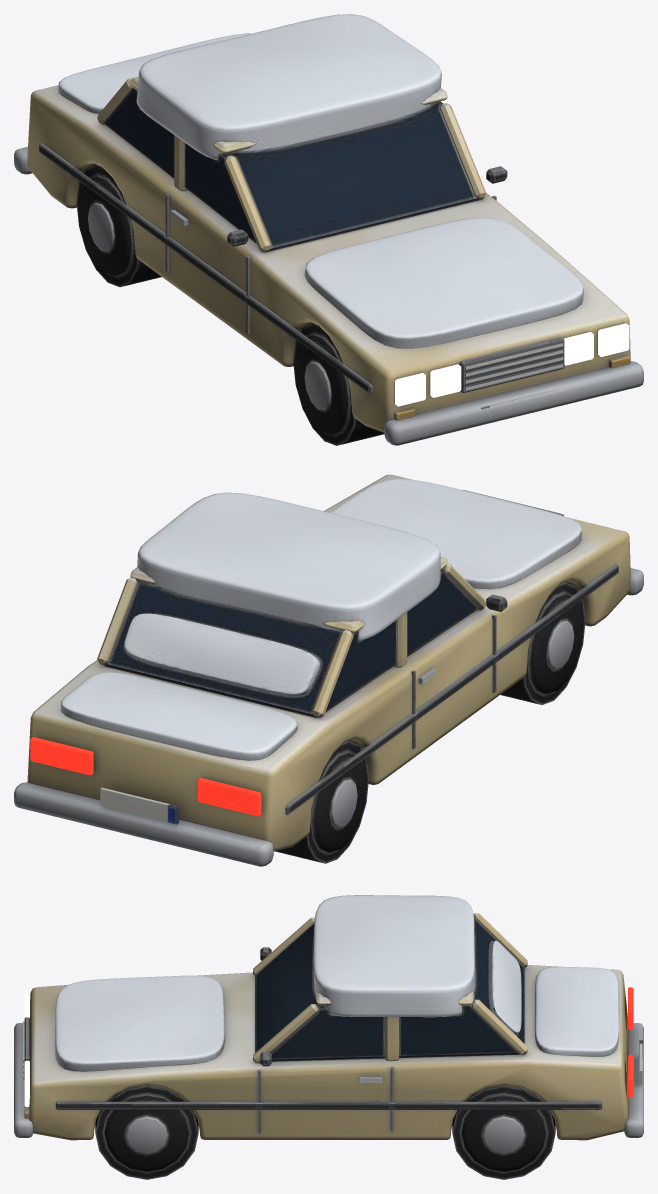
File: car_cream.glb
3 renders of one model, top to bottom at view 1: azimuth 30°, elevation 25°; view 2: azimuth 150°, elevation 25°; view 3: azimuth 270°, elevation 25°, orthographic. The views are drawn at different scales.
Parts seen in each view (by area): view 1: car_cream, car_cream_glow; view 2: car_cream, car_cream_glow; view 3: car_cream, car_cream_glow.
Part boxes in pixels (x1,y1,x2,y2): car_cream: (14,14,643,445); car_cream_glow: (395,323,629,406); car_cream: (14,474,643,866); car_cream_glow: (30,532,629,816); car_cream: (14,895,643,1179); car_cream_glow: (24,987,633,1106).
Size of the model in its own units: 1.88 by 1.56 by 4.5.
Materials: 3 (1 with a texture image).
